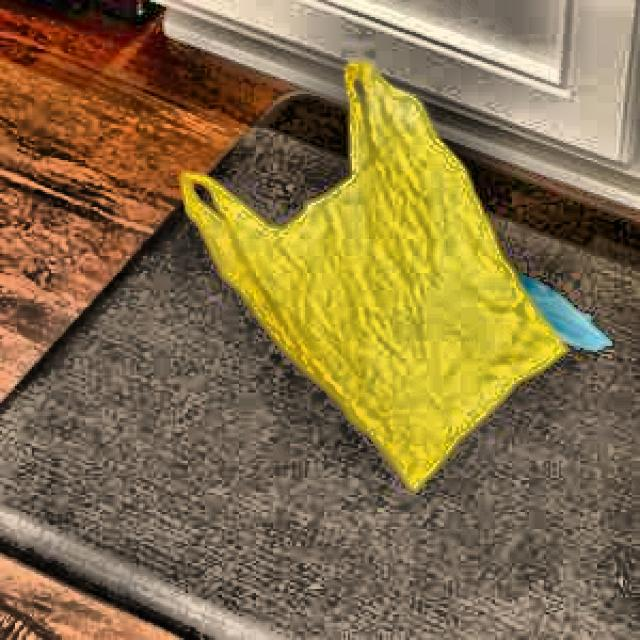Plastic: (167, 35, 568, 508)
